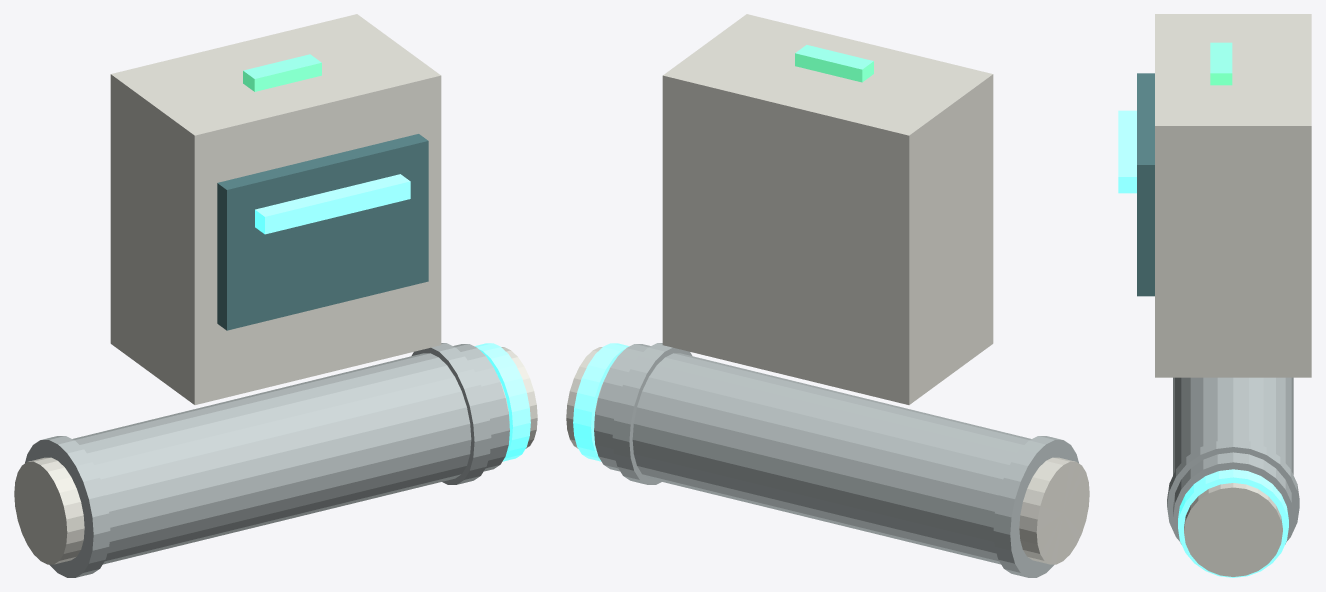
File: s7-i06-sensor-flow.glb
3 renders of one model, left to right at view 1: azimuth 30°, elevation 25°; view 2: azimuth 150°, elevation 25°; view 3: azimuth 270°, elevation 25°, orthographic. The views are drawn at different scales.
Parts seen in each view (by area): view 1: 000_sealed_field_sensor, 004_inline_flow_body, 001_status_readout, 005_flow_connector_sealing_socket, 007_flow_connector_locking_collar, 002_data_display_glow, 010_flow_connector_locking_collar, 009_flow_connector_cyan_snap_seal, 011_power_led, 008_flow_connector_sealing_socket; view 2: 000_sealed_field_sensor, 004_inline_flow_body, 005_flow_connector_sealing_socket, 007_flow_connector_locking_collar, 010_flow_connector_locking_collar, 009_flow_connector_cyan_snap_seal, 011_power_led, 008_flow_connector_sealing_socket; view 3: 000_sealed_field_sensor, 004_inline_flow_body, 008_flow_connector_sealing_socket, 001_status_readout, 010_flow_connector_locking_collar, 009_flow_connector_cyan_snap_seal, 002_data_display_glow, 011_power_led.
Part boxes in pixels (left/top/right/bottom): 000_sealed_field_sensor: left=110, top=14, right=441, bottom=404; 004_inline_flow_body: left=72, top=344, right=509, bottom=564; 001_status_readout: left=217, top=134, right=428, bottom=330; 005_flow_connector_sealing_socket: left=14, top=457, right=84, bottom=564; 007_flow_connector_locking_collar: left=25, top=436, right=110, bottom=577; 002_data_display_glow: left=255, top=174, right=410, bottom=234; 010_flow_connector_locking_collar: left=411, top=343, right=491, bottom=484; 009_flow_connector_cyan_snap_seal: left=474, top=343, right=530, bottom=461; 011_power_led: left=243, top=54, right=321, bottom=91; 008_flow_connector_sealing_socket: left=501, top=347, right=537, bottom=448; 000_sealed_field_sensor: left=662, top=14, right=993, bottom=404; 004_inline_flow_body: left=594, top=344, right=1031, bottom=564; 005_flow_connector_sealing_socket: left=1019, top=457, right=1089, bottom=564; 007_flow_connector_locking_collar: left=993, top=436, right=1078, bottom=577; 010_flow_connector_locking_collar: left=612, top=343, right=692, bottom=484; 009_flow_connector_cyan_snap_seal: left=573, top=343, right=629, bottom=461; 011_power_led: left=795, top=45, right=873, bottom=82; 008_flow_connector_sealing_socket: left=566, top=347, right=602, bottom=448; 000_sealed_field_sensor: left=1155, top=14, right=1311, bottom=377; 004_inline_flow_body: left=1173, top=377, right=1293, bottom=544; 008_flow_connector_sealing_socket: left=1184, top=483, right=1282, bottom=576; 001_status_readout: left=1137, top=73, right=1154, bottom=296; 010_flow_connector_locking_collar: left=1167, top=439, right=1299, bottom=541; 009_flow_connector_cyan_snap_seal: left=1178, top=469, right=1288, bottom=577; 002_data_display_glow: left=1118, top=110, right=1136, bottom=193; 011_power_led: left=1210, top=42, right=1232, bottom=85.
Size of the model in its own units: 0.42 by 0.391 by 0.1605.
